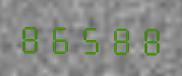eight: (18, 18, 46, 55), (134, 20, 162, 57), (105, 20, 133, 56)
five: (76, 19, 104, 56)
six: (47, 19, 75, 55)
